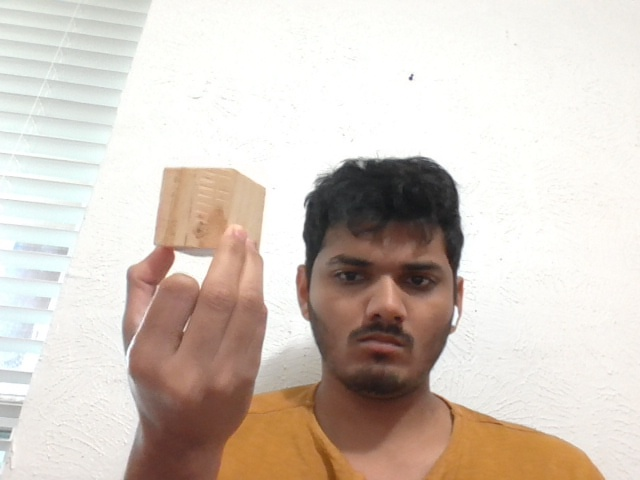NormalBlock: (152, 166, 268, 252)
